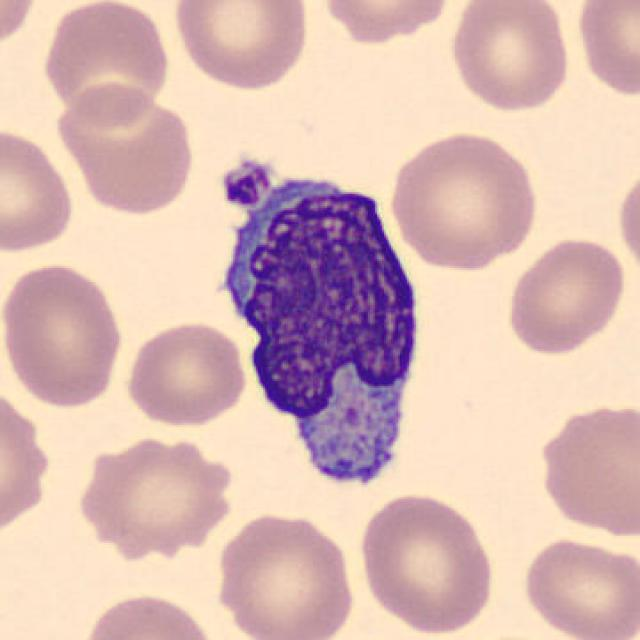Monocyte: (212, 153, 434, 506)
Platelets: (215, 157, 274, 210)
RBC: (384, 127, 542, 271), (356, 488, 500, 636), (71, 432, 240, 557), (51, 79, 198, 219), (210, 508, 359, 640), (0, 259, 128, 411), (39, 0, 174, 125), (502, 233, 630, 358), (533, 397, 640, 541), (446, 0, 574, 115), (121, 318, 251, 430), (169, 0, 313, 93), (518, 534, 638, 640), (0, 123, 78, 254), (0, 388, 53, 527), (78, 589, 222, 640), (572, 0, 638, 100), (315, 0, 457, 46), (613, 162, 640, 280), (0, 0, 43, 53)
